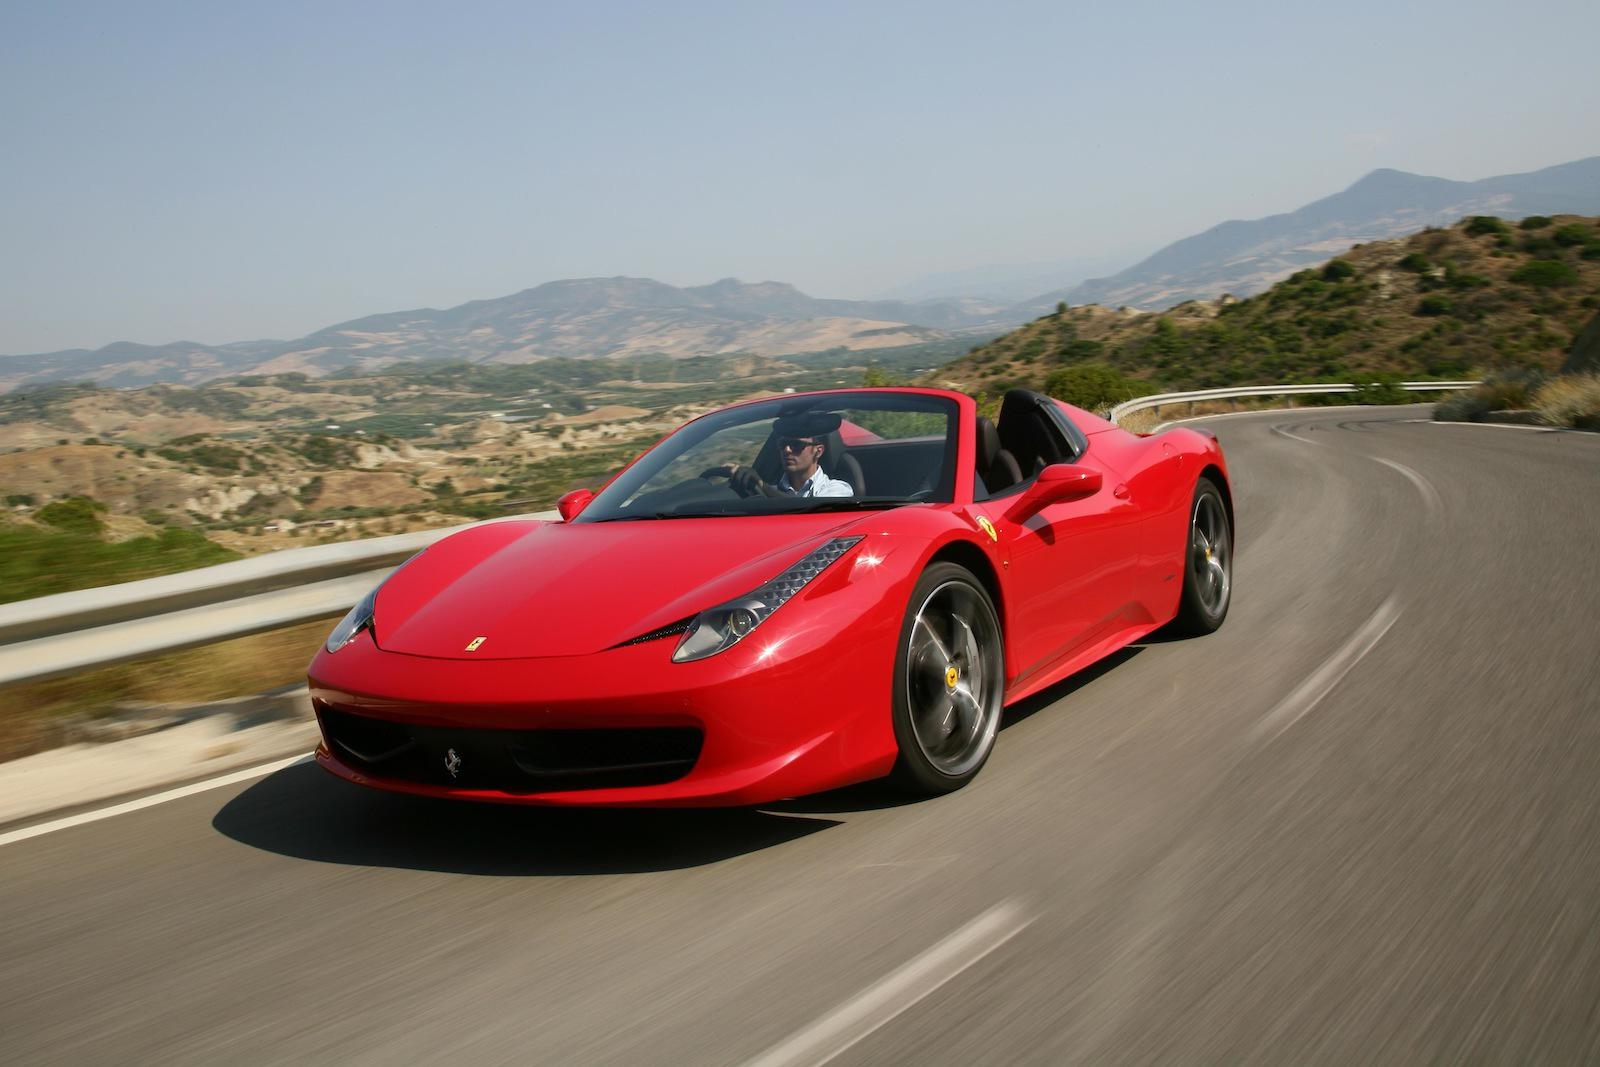Car: (237, 288, 1265, 907)
